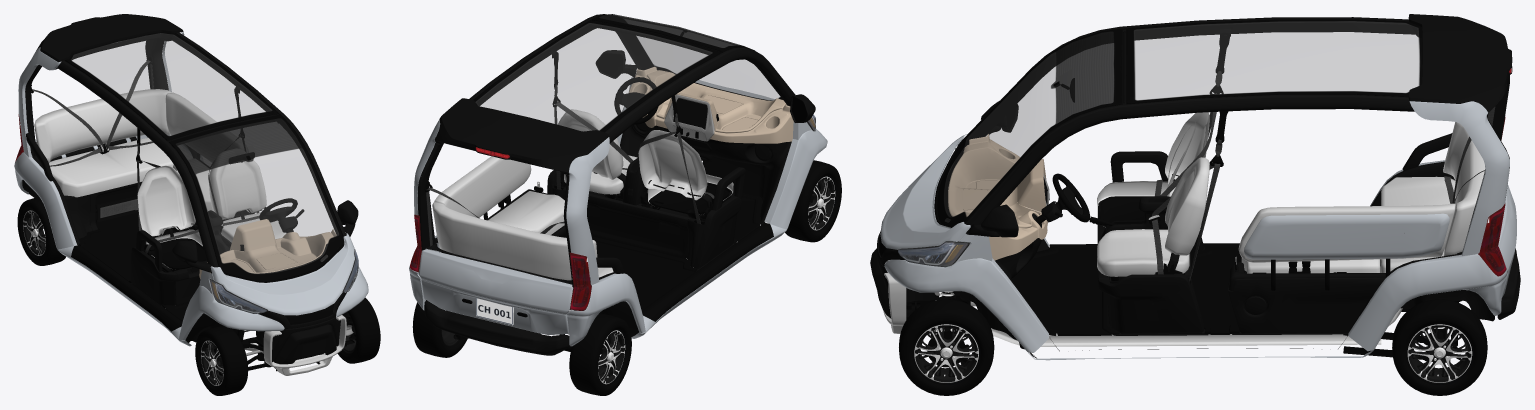
File: golf_cart.glb
The picture shows the model from 3 angles, left to right: view 1: azimuth 30°, elevation 25°; view 2: azimuth 150°, elevation 25°; view 3: azimuth 270°, elevation 25°; orthographic projection. The views are drawn at different scales.
Parts seen in each view (by area): view 1: body, wheel_FR, wheel_RR, wheel_FL, steering_wheel; view 2: body, wheel_RR, wheel_FR, wheel_RL, steering_wheel; view 3: body, wheel_RL, wheel_FL, steering_wheel.
Part boxes in pixels (bbox=[...]): body: bbox=[14, 14, 368, 375]; wheel_FR: bbox=[195, 326, 248, 395]; wheel_RR: bbox=[17, 197, 65, 265]; wheel_FL: bbox=[337, 297, 380, 363]; steering_wheel: bbox=[259, 198, 297, 222]; body: bbox=[409, 14, 827, 355]; wheel_RR: bbox=[569, 313, 631, 395]; wheel_FR: bbox=[785, 160, 841, 242]; wheel_RL: bbox=[412, 300, 467, 357]; steering_wheel: bbox=[614, 77, 658, 124]; body: bbox=[870, 14, 1520, 367]; wheel_RL: bbox=[1392, 299, 1487, 395]; wheel_FL: bbox=[899, 299, 994, 395]; steering_wheel: bbox=[1052, 173, 1090, 222].
Bounding box in the file's own units: 1.74 × 1.93 × 3.89.
Materials: 17 (8 with a texture image).
